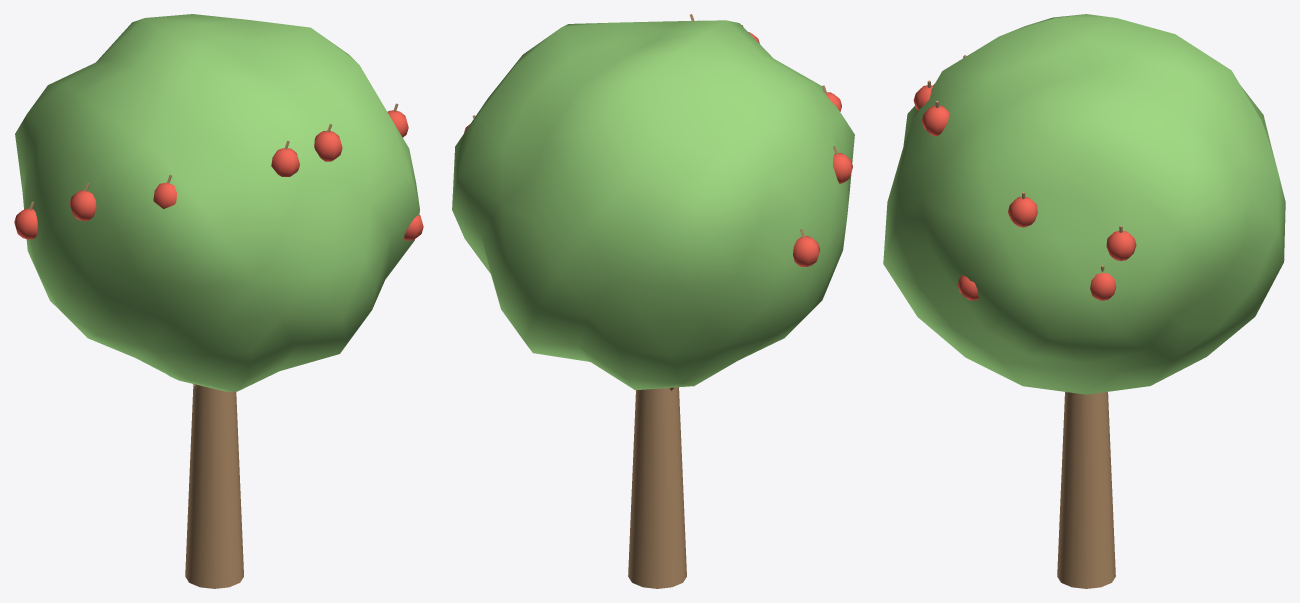
File: tree_round.glb
The picture shows the model from 3 angles, left to right: view 1: azimuth 30°, elevation 25°; view 2: azimuth 150°, elevation 25°; view 3: azimuth 270°, elevation 25°; orthographic projection.
Visible parts, largest first — view 1: tree_round; view 2: tree_round; view 3: tree_round.
Boxes of the visible parts, <box> form: tree_round: <box>14,14,423,588</box>; tree_round: <box>452,14,854,588</box>; tree_round: <box>883,14,1285,588</box>.
Size of the model in its own units: 1.99 by 2.85 by 1.92.
